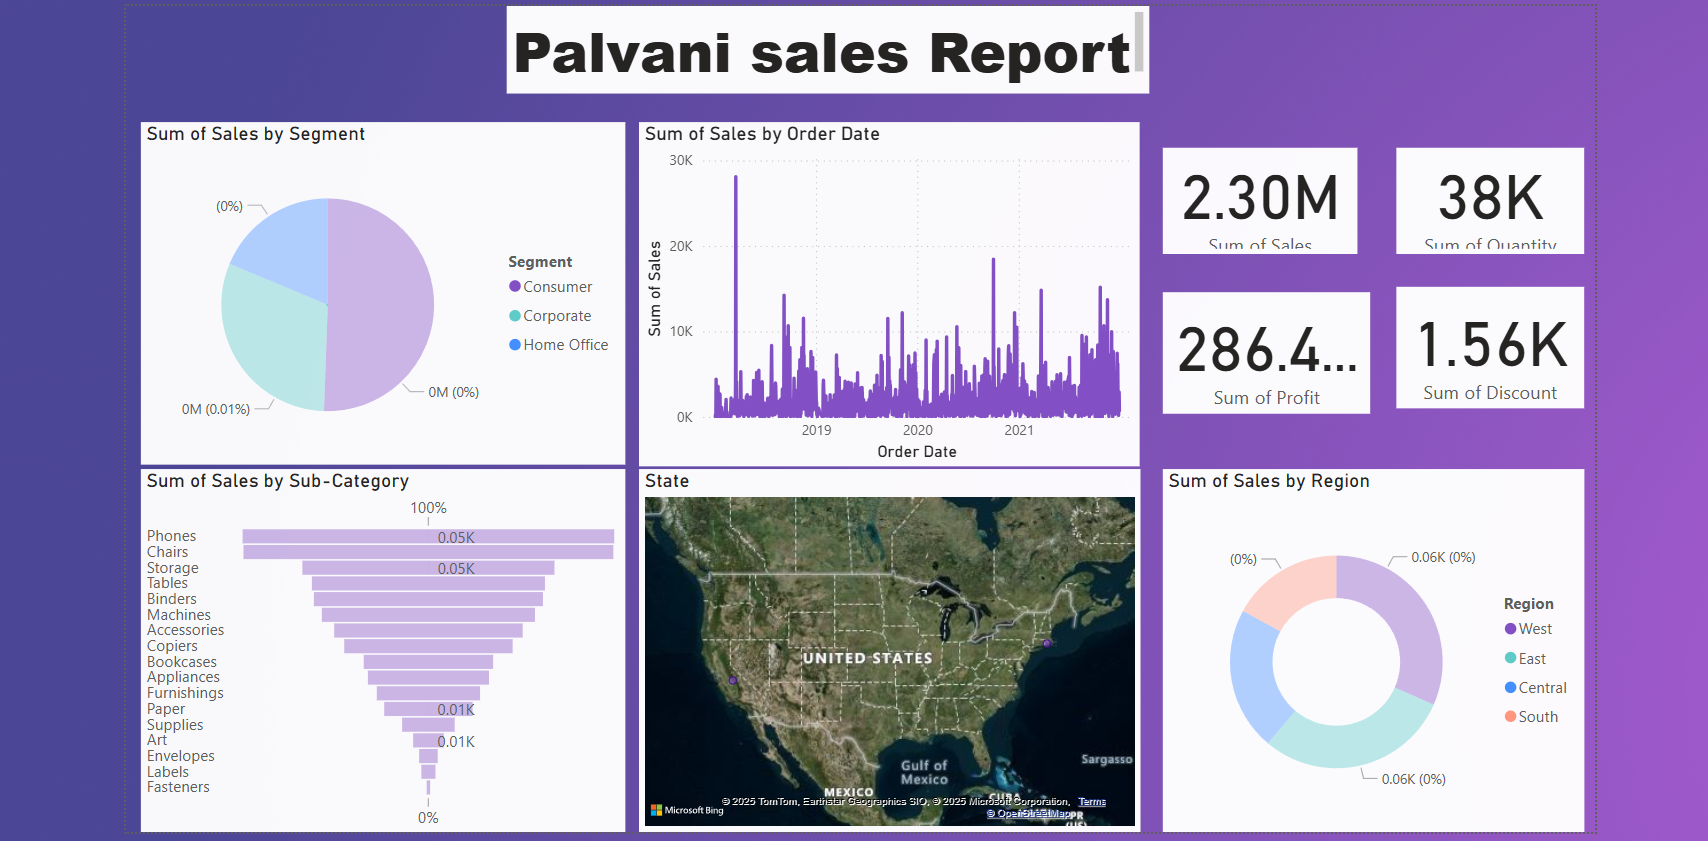

Layout of this report page (visuals, bound fields, positions):
{"tool":"powerbi","page":{"name":"Page 1","canvas":[1280,720],"ordinal":0},"visuals":[{"type":"donutChart","fields":{"Category":["Orders.Region"],"Y":["Orders.Sales"]},"box":[903,403.9,377.4,316.6],"z":0},{"type":"funnel","fields":{"Category":["Orders.Sub-Category"],"Y":["Orders.Sales"]},"box":[12.5,403.9,435.1,316.6],"z":1000},{"type":"map","fields":{"Category":["Orders.State"]},"box":[447.6,403.9,436.7,316.6],"z":2000},{"type":"pieChart","fields":{"Category":["Orders.Segment"],"Y":["Orders.Sales"]},"box":[0,90.5,434.8,309.1],"z":3000},{"type":"lineChart","fields":{"Category":["Orders.Order Date"],"Y":["Orders.Sales"]},"box":[447.6,101.4,444.5,299.4],"z":4000},{"type":"card","fields":{"Values":["Orders1.Profit"]},"box":[903,249.5,180.9,106.1],"z":5000},{"type":"card","fields":{"Values":["Orders1.Sales"]},"box":[913.9,90.5,170,93.6],"z":6000},{"type":"card","fields":{"Values":["Orders1.Discount"]},"box":[1107.3,244.9,170,106.1],"z":7000},{"type":"card","fields":{"Values":["Orders1.Quantity"]},"box":[1108.9,90.5,163.8,96.7],"z":8000},{"type":"textbox","box":[332.2,0,559.9,76.4],"z":8001}]}

Visuals, with their boxes in screenshot pixels (x1, y1, x2, y2):
donutChart - Orders.Region x Orders.Sales: select_region(1160, 461, 1594, 825)
funnel - Orders.Sub-Category x Orders.Sales: select_region(134, 461, 635, 825)
map - Orders.State: select_region(635, 461, 1138, 825)
pieChart - Orders.Segment x Orders.Sales: select_region(120, 100, 621, 456)
lineChart - Orders.Order Date x Orders.Sales: select_region(635, 112, 1147, 457)
card - Orders1.Profit: select_region(1160, 283, 1368, 405)
card - Orders1.Sales: select_region(1172, 100, 1368, 208)
card - Orders1.Discount: select_region(1395, 278, 1591, 400)
card - Orders1.Quantity: select_region(1397, 100, 1586, 211)
textbox: select_region(503, 0, 1147, 84)
